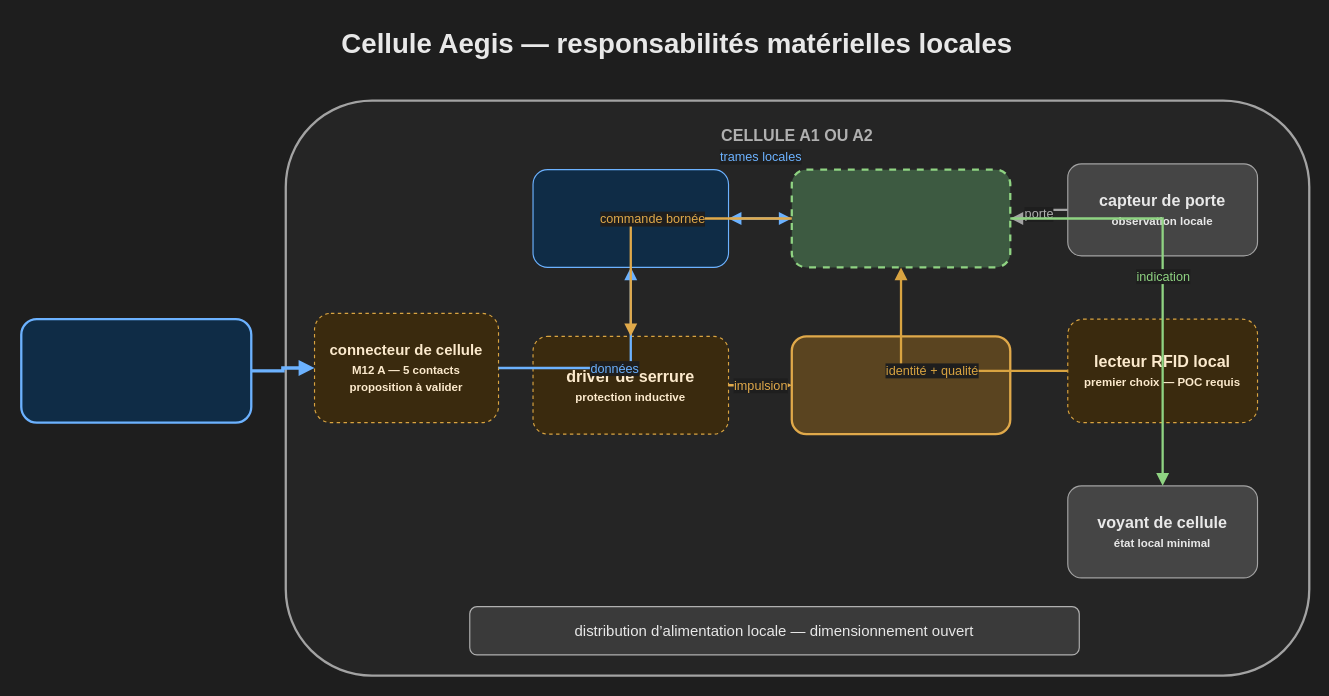
This 1329x696 diagram has some shape labels left out. The centre of each missing label's shape, as x and y in pixels:
contrôleur local composant à choisir: point (900, 218)
câble dédié depuis le hub alimentation + segment RS-485: point (136, 370)
interface RS-485 segment propre: point (630, 217)
verrou rotatif impulsion bornée: point (900, 385)
